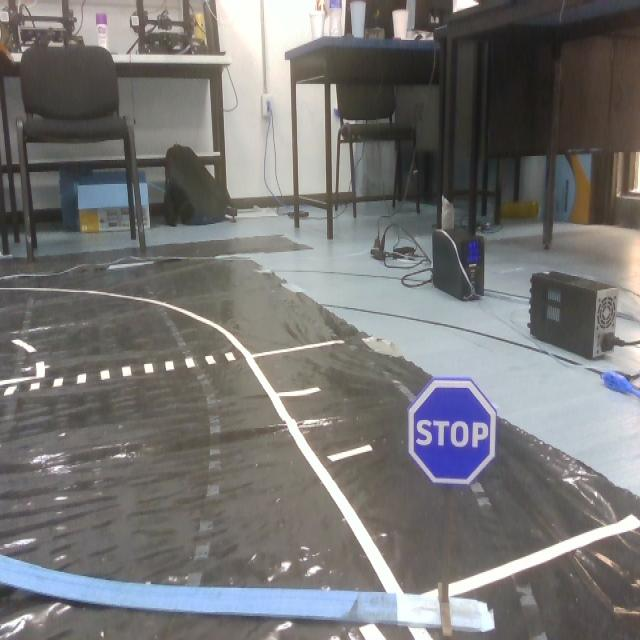no_entry: (416, 374, 494, 490)
